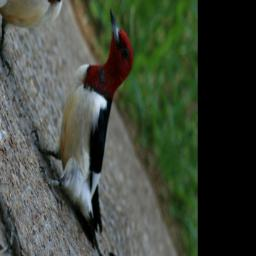Woodpecker: (19, 0, 177, 256)
